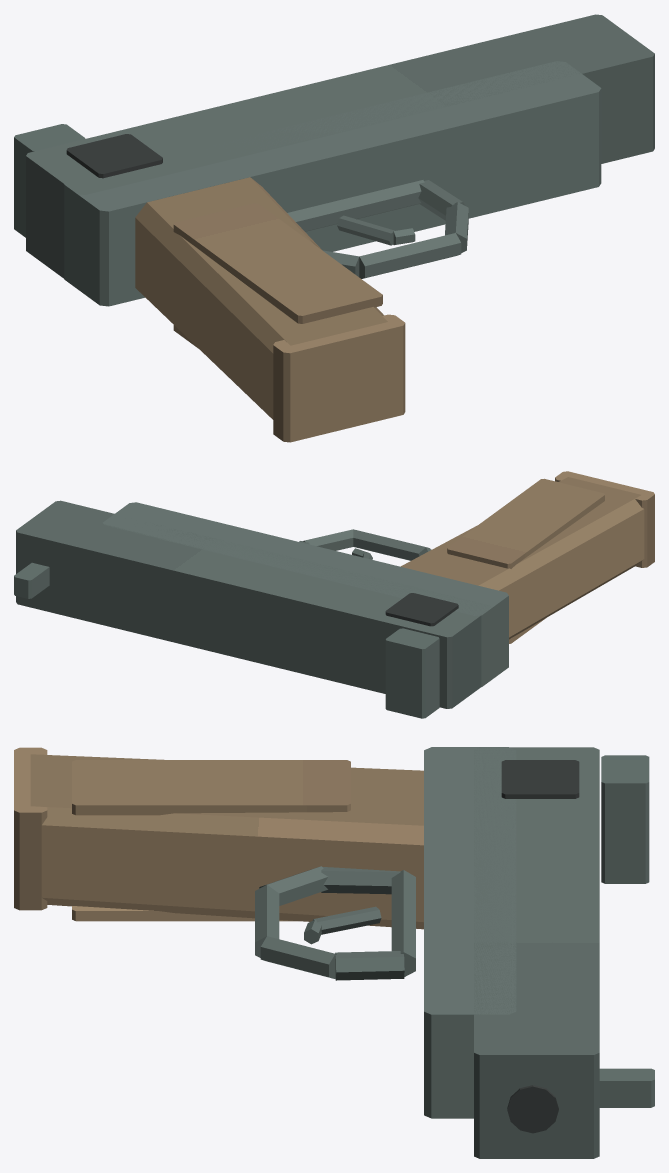
Rendered from weapon-hi-power.glb.
3 renders of one model, top to bottom at view 1: azimuth 30°, elevation 25°; view 2: azimuth 150°, elevation 25°; view 3: azimuth 270°, elevation 25°, orthographic. The views are drawn at different scales.
Parts seen in each view (by area): view 1: weapon-hi-power/lower-frame, weapon-hi-power/flat-slide, weapon-hi-power/eight-sided-grip, weapon-hi-power/eight-sided-grip-heel, weapon-hi-power/independent-grip-panels-left, weapon-hi-power/hollow-trigger-guard-1, weapon-hi-power/slide-rear-serrations-left, weapon-hi-power/hollow-trigger-guard-4, weapon-hi-power/rear-sight, weapon-hi-power/hollow-trigger-guard-trigger-1, weapon-hi-power/hollow-trigger-guard-2, weapon-hi-power/hollow-trigger-guard-3; view 2: weapon-hi-power/flat-slide, weapon-hi-power/lower-frame, weapon-hi-power/eight-sided-grip, weapon-hi-power/independent-grip-panels-left, weapon-hi-power/rear-sight, weapon-hi-power/slide-rear-serrations-left, weapon-hi-power/eight-sided-grip-heel, weapon-hi-power/hollow-trigger-guard-4, weapon-hi-power/front-sight, weapon-hi-power/hollow-trigger-guard-3; view 3: weapon-hi-power/flat-slide, weapon-hi-power/eight-sided-grip, weapon-hi-power/lower-frame, weapon-hi-power/independent-grip-panels-left, weapon-hi-power/rear-sight, weapon-hi-power/eight-sided-grip-heel, weapon-hi-power/slide-rear-serrations-left, weapon-hi-power/front-sight, weapon-hi-power/hollow-trigger-guard-1, weapon-hi-power/hollow-trigger-guard-2, weapon-hi-power/muzzle-dark-disc, weapon-hi-power/hollow-trigger-guard-3 (+5 smaller).
Boxes of the visible parts, <box> form: weapon-hi-power/lower-frame: <box>64,61,601,306</box>; weapon-hi-power/flat-slide: <box>26,14,654,278</box>; weapon-hi-power/eight-sided-grip: <box>135,177,387,419</box>; weapon-hi-power/eight-sided-grip-heel: <box>273,314,405,442</box>; weapon-hi-power/independent-grip-panels-left: <box>173,203,382,323</box>; weapon-hi-power/hollow-trigger-guard-1: <box>287,180,424,231</box>; weapon-hi-power/slide-rear-serrations-left: <box>66,134,162,178</box>; weapon-hi-power/hollow-trigger-guard-4: <box>359,233,461,278</box>; weapon-hi-power/rear-sight: <box>14,124,85,237</box>; weapon-hi-power/hollow-trigger-guard-trigger-1: <box>337,215,395,245</box>; weapon-hi-power/hollow-trigger-guard-2: <box>418,180,465,220</box>; weapon-hi-power/hollow-trigger-guard-3: <box>445,202,468,252</box>; weapon-hi-power/flat-slide: <box>16,500,491,708</box>; weapon-hi-power/lower-frame: <box>103,502,508,686</box>; weapon-hi-power/eight-sided-grip: <box>401,477,644,639</box>; weapon-hi-power/independent-grip-panels-left: <box>447,478,604,568</box>; weapon-hi-power/rear-sight: <box>385,628,439,718</box>; weapon-hi-power/slide-rear-serrations-left: <box>385,593,458,626</box>; weapon-hi-power/eight-sided-grip-heel: <box>555,471,654,567</box>; weapon-hi-power/hollow-trigger-guard-4: <box>353,529,430,560</box>; weapon-hi-power/front-sight: <box>14,562,49,598</box>; weapon-hi-power/hollow-trigger-guard-3: <box>303,529,353,550</box>; weapon-hi-power/flat-slide: <box>474,747,599,1158</box>; weapon-hi-power/eight-sided-grip: <box>30,754,423,929</box>; weapon-hi-power/lower-frame: <box>424,747,516,1118</box>; weapon-hi-power/independent-grip-panels-left: <box>72,760,350,815</box>; weapon-hi-power/rear-sight: <box>601,755,649,883</box>; weapon-hi-power/eight-sided-grip-heel: <box>14,747,47,910</box>; weapon-hi-power/slide-rear-serrations-left: <box>501,760,579,798</box>; weapon-hi-power/front-sight: <box>599,1068,654,1107</box>; weapon-hi-power/hollow-trigger-guard-1: <box>391,870,415,976</box>; weapon-hi-power/hollow-trigger-guard-2: <box>335,951,404,980</box>; weapon-hi-power/muzzle-dark-disc: <box>507,1085,558,1133</box>; weapon-hi-power/hollow-trigger-guard-3: <box>260,936,336,978</box>.
Size of the model in its own units: 0.2008 by 0.0346 by 0.1735.
Materials: 3 (3 with a texture image).
